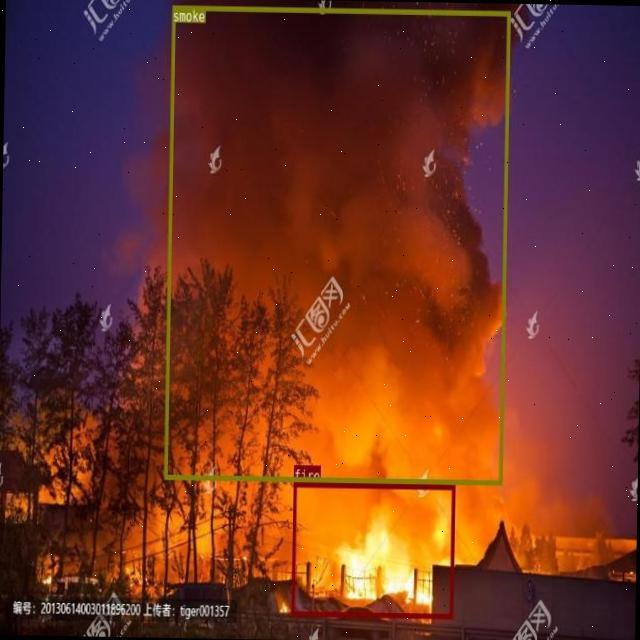fire: (290, 482, 454, 618)
smoke: (163, 4, 510, 484)
